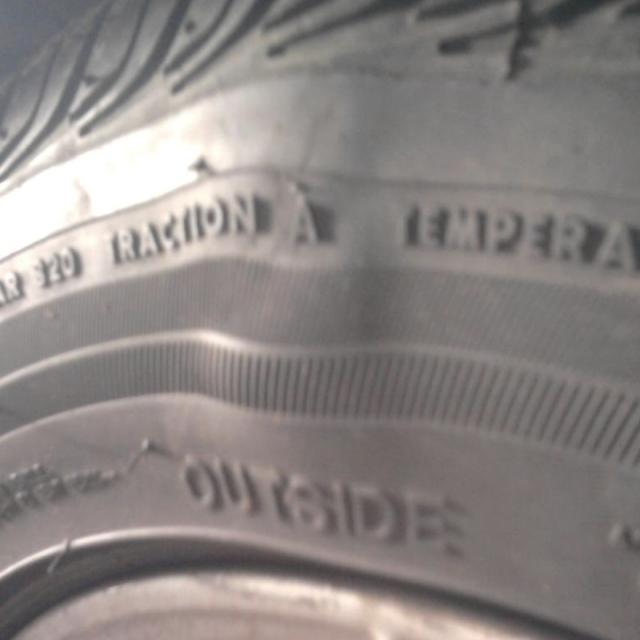Bulge: (185, 145, 424, 536)
